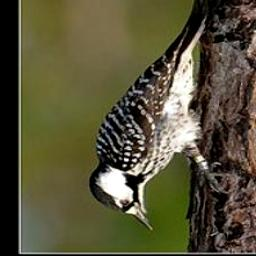Woodpecker: (88, 0, 239, 231)
